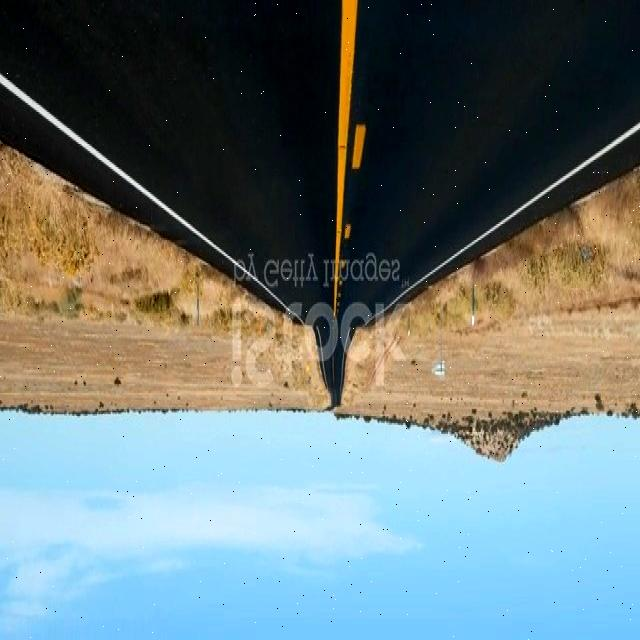lane: (390, 121, 640, 306), (0, 74, 238, 263), (334, 1, 358, 313), (353, 126, 366, 169)
road: (0, 4, 639, 407)
